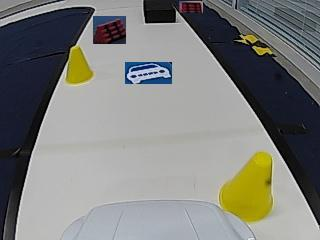block: (143, 0, 175, 23)
cone: (220, 151, 273, 220), (65, 48, 94, 85)
